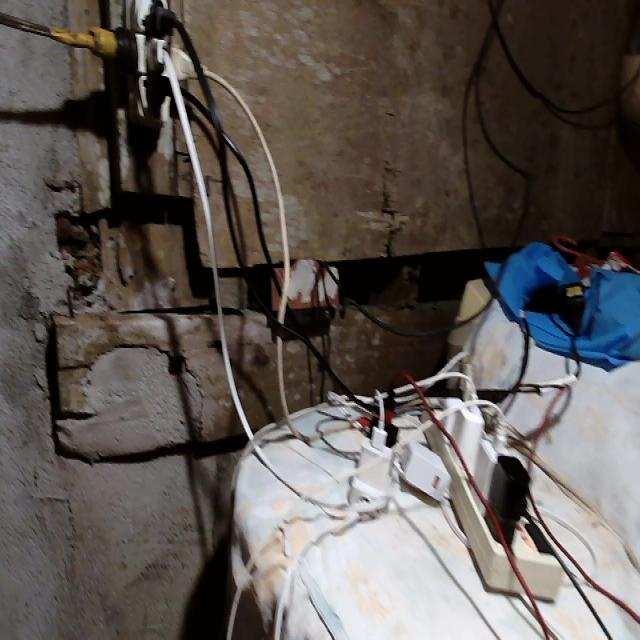-: (80, 0, 208, 127)
